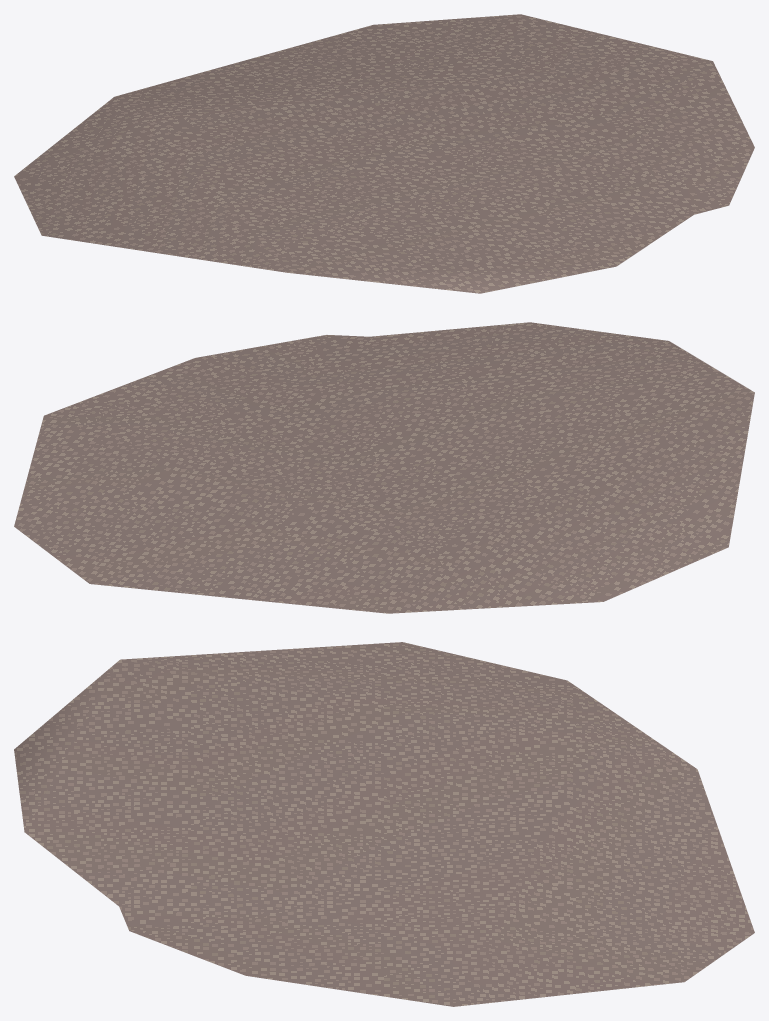
The model's file is kd_stage_135ebf_3_9.glb.
3 views of the same model, one above another, from view 1: azimuth 30°, elevation 25°; view 2: azimuth 150°, elevation 25°; view 3: azimuth 270°, elevation 25° (orthographic). The views are drawn at different scales.
Visible parts, largest first — view 1: kd_stage_135ebf_3_9; view 2: kd_stage_135ebf_3_9; view 3: kd_stage_135ebf_3_9.
Part boxes in pixels (left/top/right/bottom): kd_stage_135ebf_3_9: left=14, top=14, right=754, bottom=293; kd_stage_135ebf_3_9: left=14, top=322, right=754, bottom=613; kd_stage_135ebf_3_9: left=14, top=642, right=754, bottom=1006.
Size of the model in its own units: 14.12 by 1.41 by 12.6.
1 material, 1 textured.
